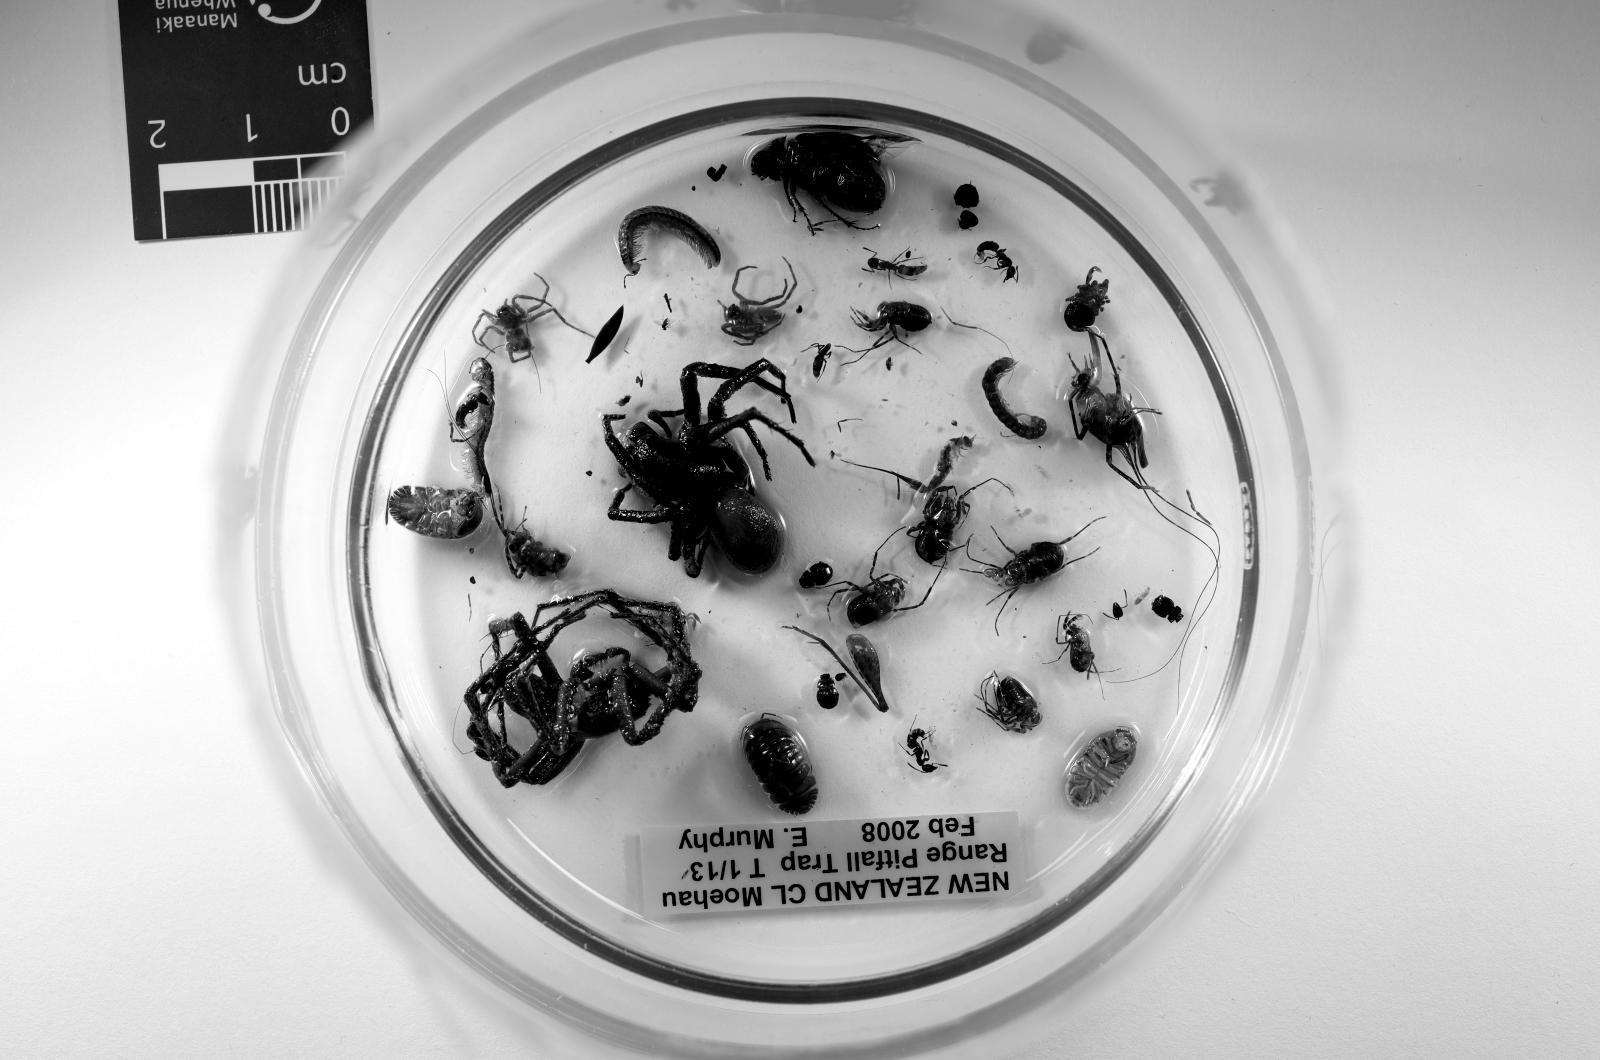araneae: (462, 590, 700, 789), (603, 360, 816, 577), (472, 283, 563, 363), (721, 270, 797, 344)
archaeognatha: (850, 435, 974, 497)
coleoptera: (750, 128, 919, 233), (1149, 596, 1185, 625), (816, 674, 841, 711), (799, 562, 831, 587)
diplopoda: (618, 205, 721, 277), (982, 357, 1047, 441), (466, 357, 494, 497)
diptera: (653, 317, 672, 329)
formicidae: (906, 726, 947, 774), (866, 248, 928, 279), (974, 243, 1018, 283), (453, 392, 491, 428)
isopoda: (744, 715, 818, 816), (1065, 730, 1138, 807), (384, 487, 481, 541)
opiliones: (974, 535, 1078, 602), (835, 552, 928, 627), (906, 485, 974, 565), (853, 302, 931, 351), (978, 674, 1041, 733), (1062, 267, 1109, 332), (1056, 612, 1097, 677)
orthoptera: (1069, 329, 1159, 491), (491, 493, 569, 577)
